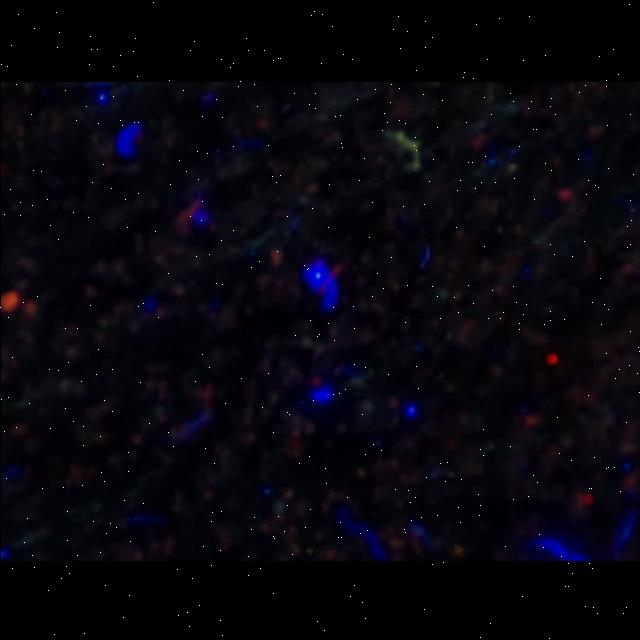Fibre: (386, 126, 424, 172)
